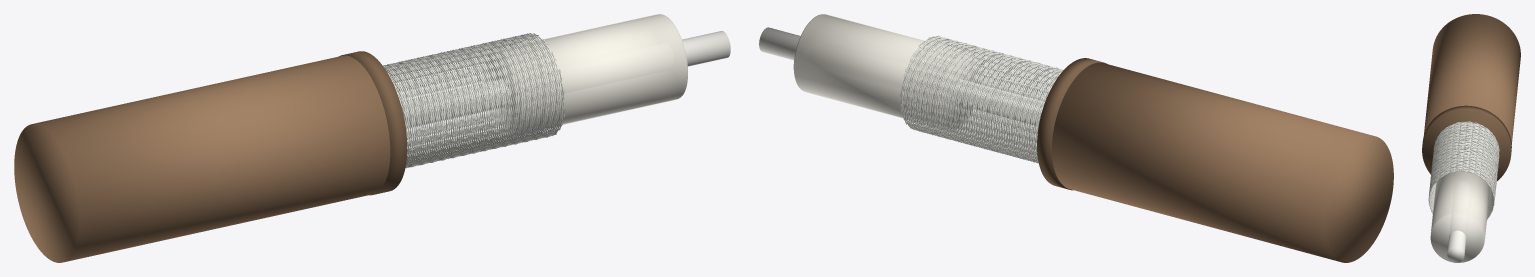
The picture shows the model from 3 angles, left to right: view 1: azimuth 30°, elevation 25°; view 2: azimuth 150°, elevation 25°; view 3: azimuth 270°, elevation 25°; orthographic projection. The views are drawn at different scales.
Parts seen in each view (by area): view 1: matte black pvc jacket body, gas injected foam dielectric, smooth dielectric skin, solid center conductor continuous, jacket cut lip, braid left hand carrier 08, braid left hand carrier 09, braid left hand carrier 11, braid left hand carrier 06, braid left hand carrier 12, braid left hand carrier 02, braid left hand carrier 14 (+25 smaller); view 2: matte black pvc jacket body, gas injected foam dielectric, smooth dielectric skin, solid center conductor continuous, jacket cut lip, braid left hand carrier 03, braid left hand carrier 05, braid left hand carrier 02, braid left hand carrier 06, braid left hand carrier 08, braid left hand carrier 11, braid left hand carrier 12 (+25 smaller); view 3: matte black pvc jacket body, gas injected foam dielectric, smooth dielectric skin, jacket cut lip, solid center conductor continuous, braid left hand carrier 03, braid left hand carrier 05, braid left hand carrier 02, braid left hand carrier 06, braid left hand carrier 09, braid left hand carrier 15, braid left hand carrier 12 (+25 smaller).
Boxes of the visible parts, bbox=[...] form: matte black pvc jacket body: bbox=[14, 55, 390, 262]; gas injected foam dielectric: bbox=[483, 14, 687, 134]; smooth dielectric skin: bbox=[482, 14, 686, 134]; solid center conductor continuous: bbox=[400, 31, 730, 128]; jacket cut lip: bbox=[339, 51, 407, 195]; braid left hand carrier 08: bbox=[383, 38, 558, 165]; braid left hand carrier 09: bbox=[383, 38, 560, 165]; braid left hand carrier 11: bbox=[385, 37, 564, 164]; braid left hand carrier 06: bbox=[387, 33, 555, 166]; braid left hand carrier 12: bbox=[387, 37, 565, 163]; braid left hand carrier 02: bbox=[392, 35, 547, 167]; braid left hand carrier 14: bbox=[393, 36, 556, 165]; matte black pvc jacket body: bbox=[1052, 62, 1393, 262]; gas injected foam dielectric: bbox=[793, 14, 980, 129]; smooth dielectric skin: bbox=[794, 14, 981, 129]; solid center conductor continuous: bbox=[759, 27, 1044, 125]; jacket cut lip: bbox=[1037, 58, 1106, 190]; braid left hand carrier 03: bbox=[901, 38, 1054, 160]; braid left hand carrier 05: bbox=[903, 37, 1053, 162]; braid left hand carrier 02: bbox=[902, 38, 1055, 157]; braid left hand carrier 06: bbox=[909, 36, 1056, 162]; braid left hand carrier 08: bbox=[919, 36, 1059, 161]; braid left hand carrier 11: bbox=[914, 41, 1062, 160]; braid left hand carrier 12: bbox=[912, 41, 1060, 160]; matte black pvc jacket body: bbox=[1424, 14, 1520, 144]; gas injected foam dielectric: bbox=[1430, 169, 1489, 262]; smooth dielectric skin: bbox=[1431, 171, 1489, 237]; jacket cut lip: bbox=[1422, 105, 1511, 181]; solid center conductor continuous: bbox=[1447, 158, 1466, 262]; braid left hand carrier 03: bbox=[1429, 123, 1498, 210]; braid left hand carrier 05: bbox=[1430, 124, 1499, 188]; braid left hand carrier 02: bbox=[1429, 122, 1499, 219]; braid left hand carrier 06: bbox=[1430, 124, 1499, 197]; braid left hand carrier 09: bbox=[1428, 126, 1498, 204]; braid left hand carrier 15: bbox=[1431, 122, 1499, 205]; braid left hand carrier 12: bbox=[1428, 128, 1499, 212].
Size of the model in its own units: 6.53 by 1.22 by 1.35.
